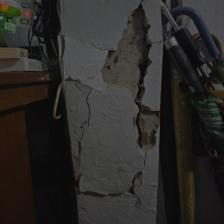High: (58, 1, 157, 224)
